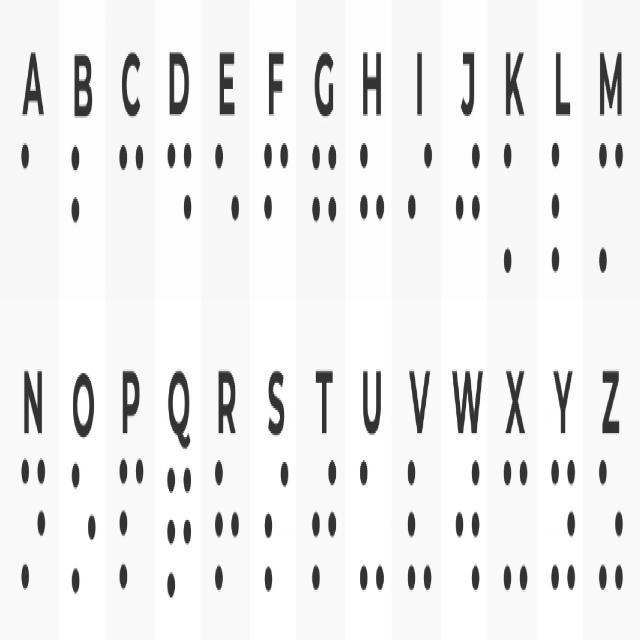braiile: (16, 130, 49, 306), (67, 128, 100, 300), (114, 130, 148, 292), (402, 442, 436, 604), (451, 444, 484, 610), (356, 444, 388, 606), (163, 130, 196, 286), (260, 444, 292, 604), (403, 128, 436, 283), (498, 450, 532, 600), (595, 450, 628, 604), (451, 127, 484, 280), (499, 130, 532, 283), (546, 449, 579, 602), (260, 130, 292, 286), (548, 130, 580, 286), (115, 444, 148, 594), (211, 449, 242, 606), (309, 132, 340, 286), (16, 447, 49, 590), (163, 452, 194, 604), (212, 133, 242, 288), (596, 128, 626, 283), (309, 442, 339, 597), (356, 130, 386, 283), (69, 452, 100, 600)
